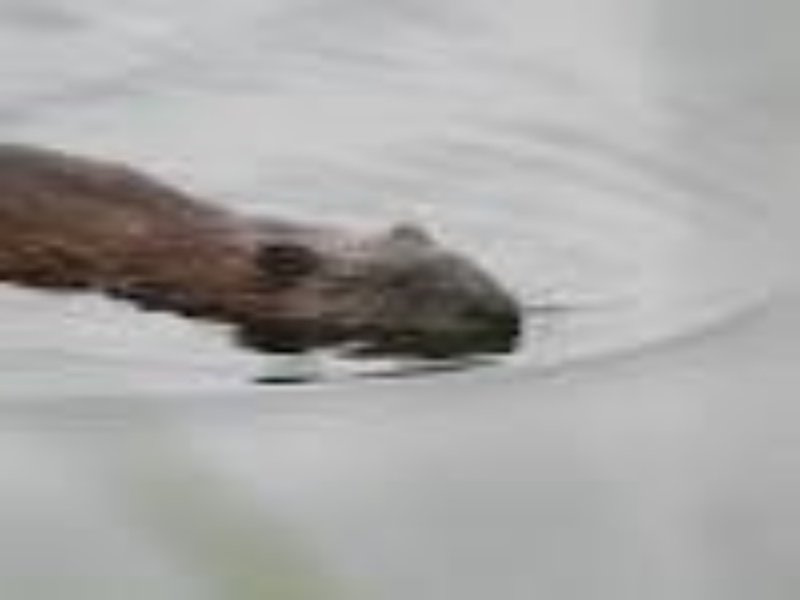minkish: (1, 136, 527, 341)
